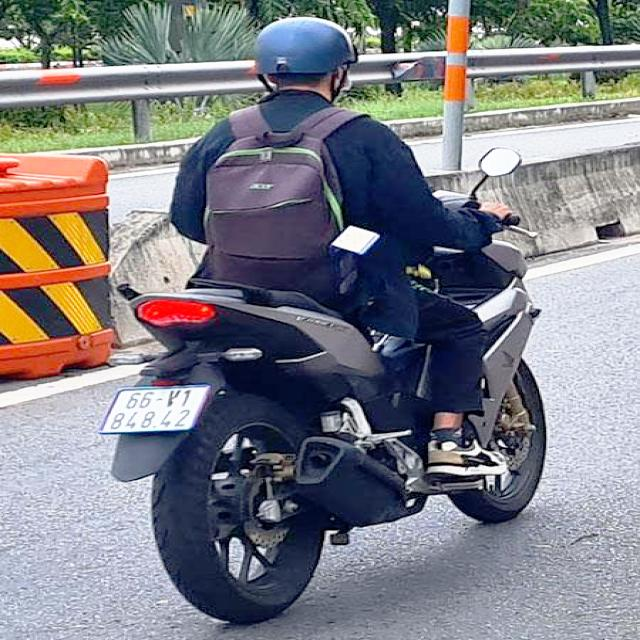license_plate: (100, 389, 211, 432)
